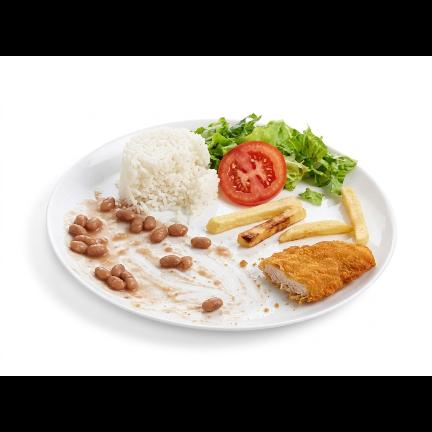beans: (116, 209, 188, 242), (68, 215, 107, 256), (94, 264, 138, 291), (159, 255, 192, 269), (202, 297, 223, 312), (192, 237, 211, 248), (100, 197, 114, 211)
chicken: (259, 241, 375, 304)
potato: (279, 187, 368, 244), (206, 197, 306, 247)
rice: (118, 128, 219, 221)
salad: (196, 114, 357, 195), (300, 188, 324, 205)
tomato: (218, 141, 286, 205), (219, 141, 286, 205)
